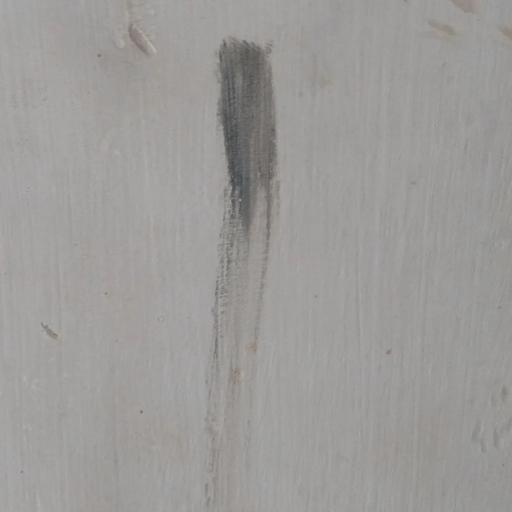stain: (185, 35, 291, 512)
